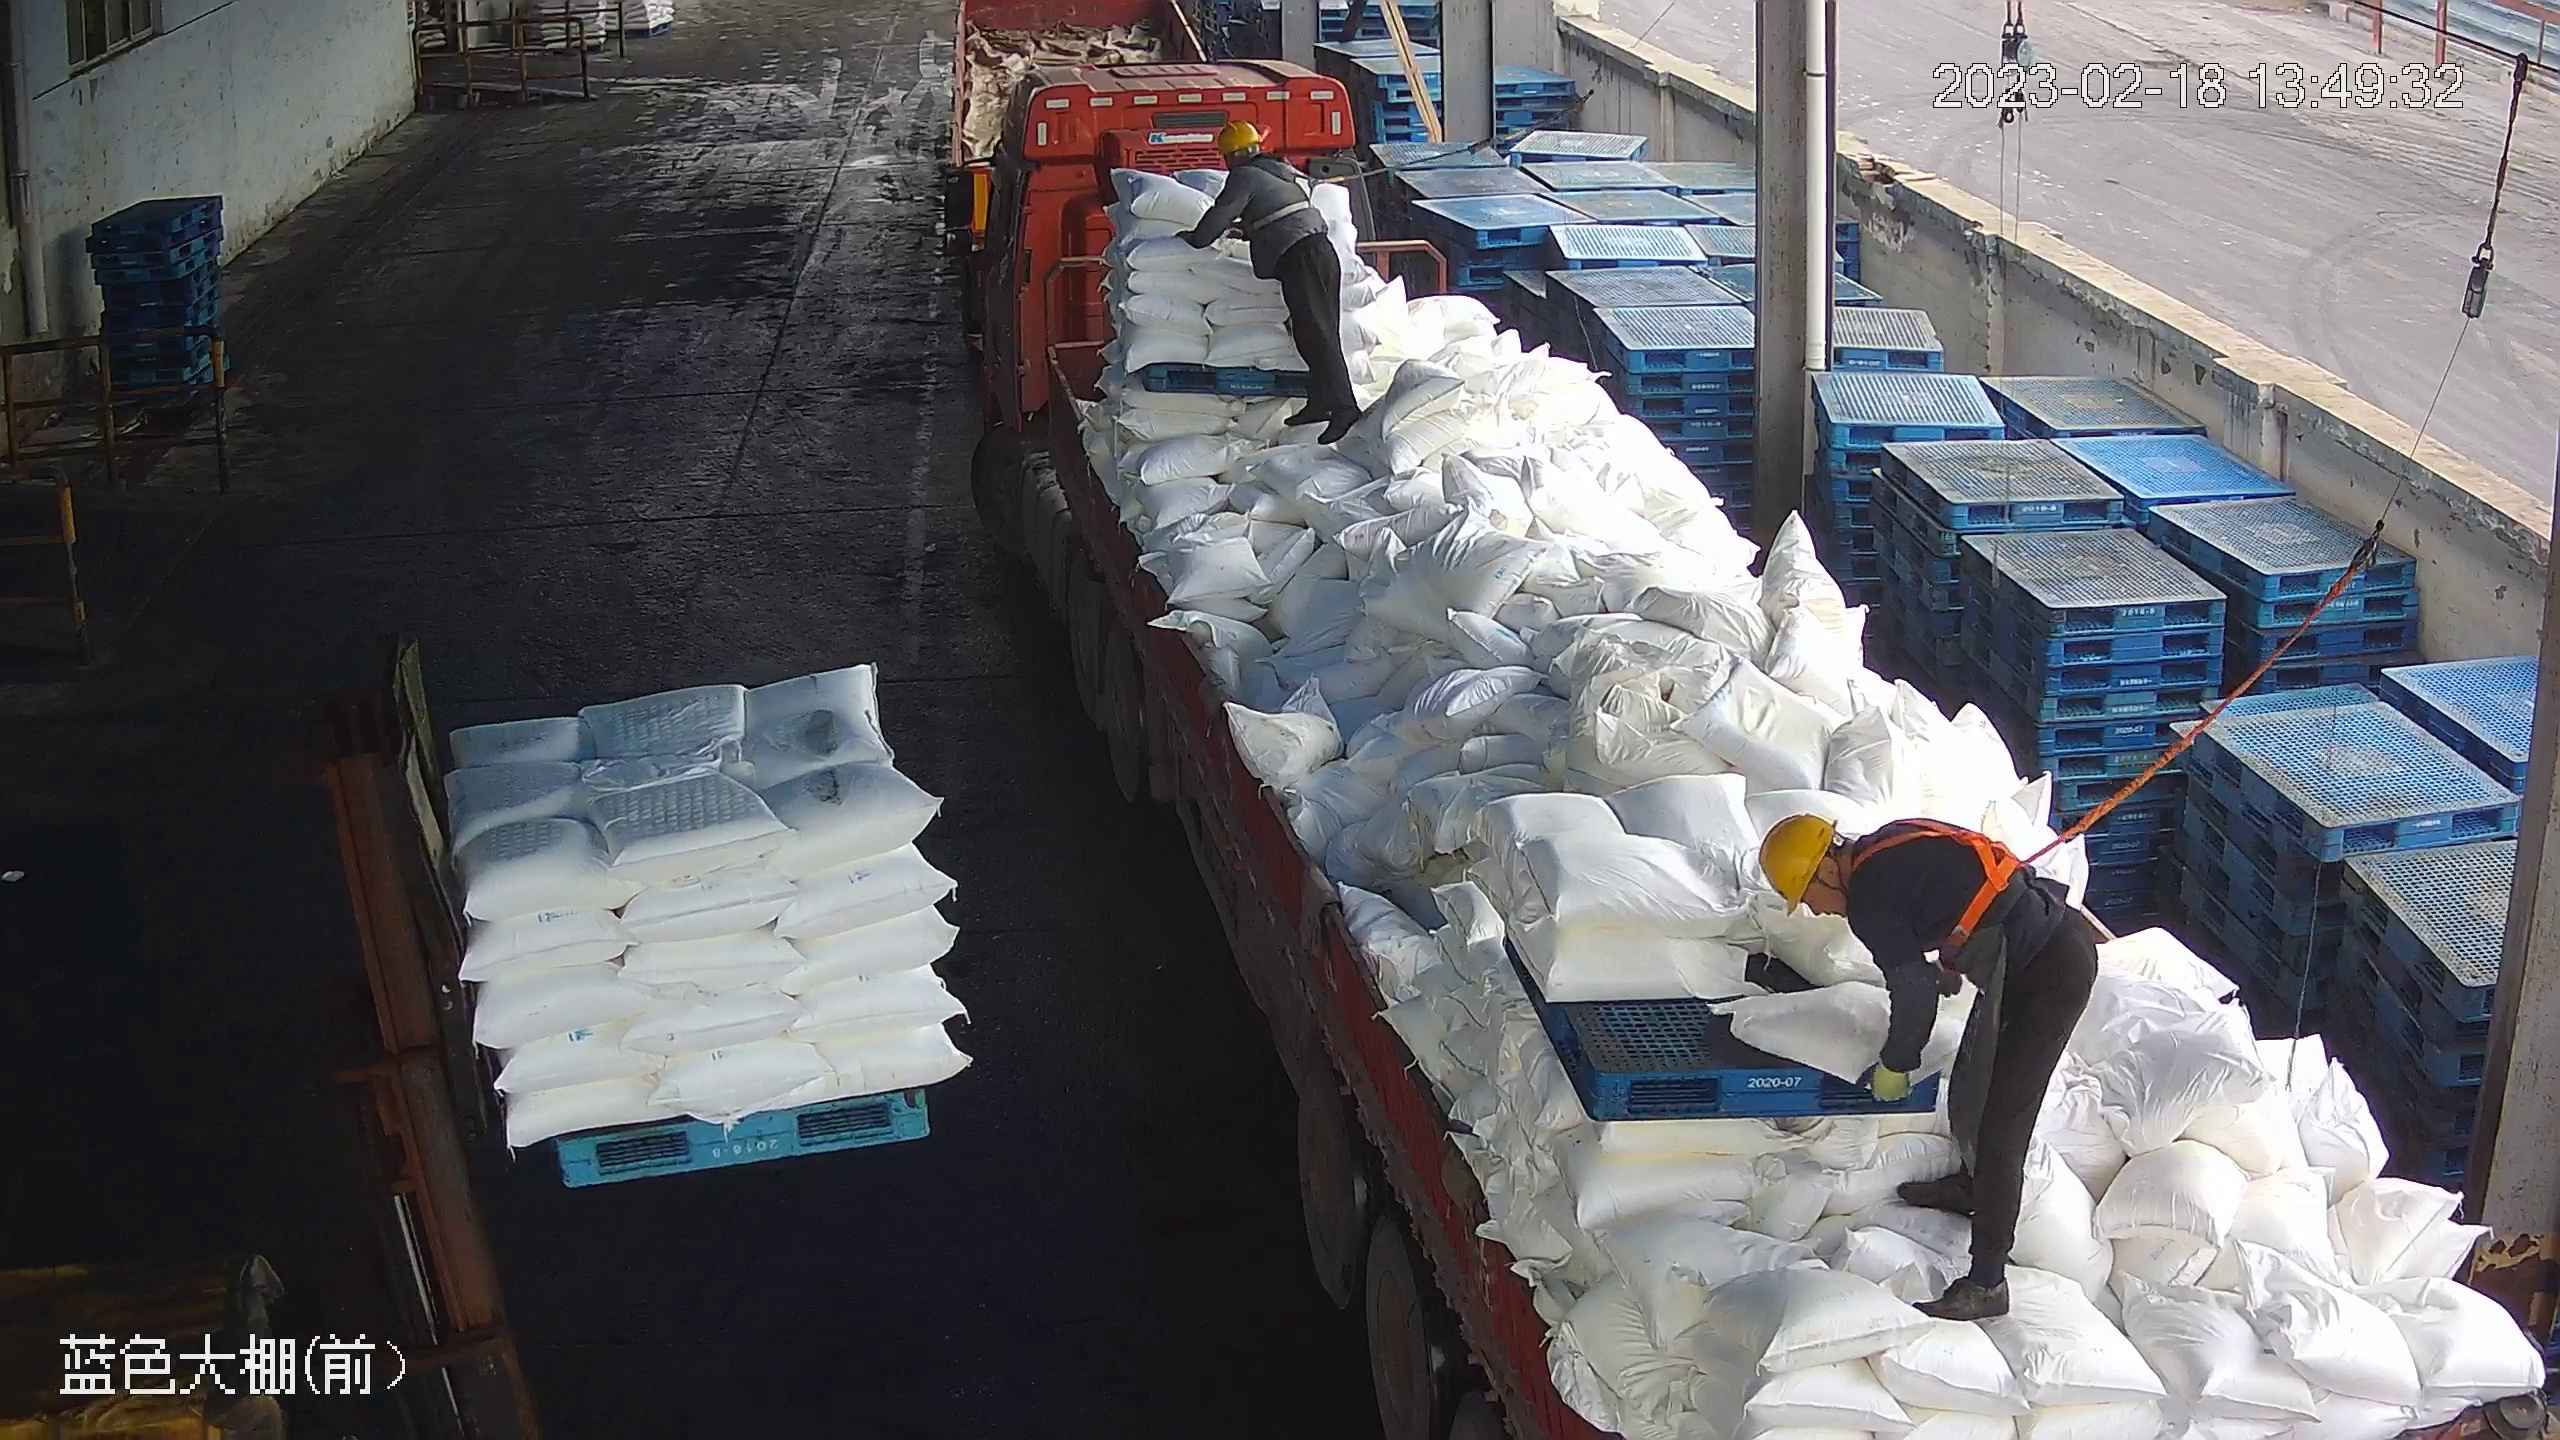belt: (1861, 808, 2052, 961), (1247, 155, 1339, 233)
head: (1755, 810, 1975, 994), (1207, 118, 1309, 213)
helmet: (1756, 810, 1835, 913), (1213, 116, 1264, 156)
people: (1752, 810, 2097, 1320), (1178, 116, 1369, 447)
truck: (938, 47, 2551, 1440)
